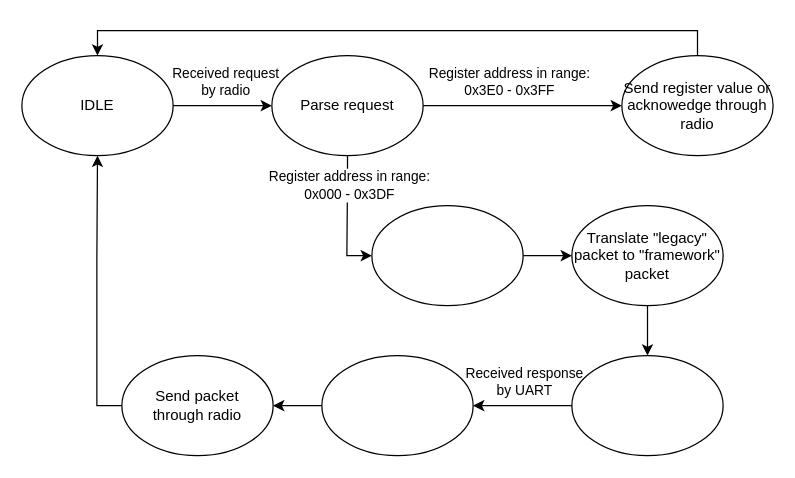
Image size: 795x478. Some labels were removed from this diagram. The shapes that lost their labels are listed below. From the top down, each one's centre as x and y in pixels, then its label:
(447,255): Map "legacy" address to "framework" address
(397,405): Translate "framework" packet to "legacy" packet
(647,405): Send packet to STM32 by UART
